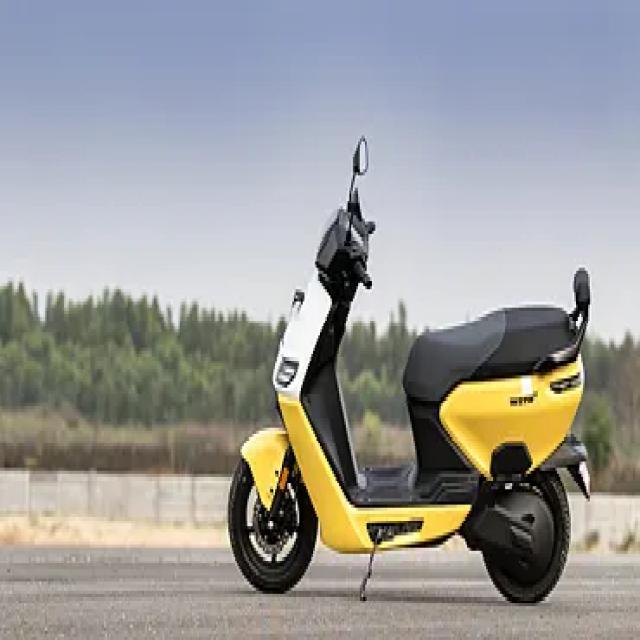objects: (201, 88, 640, 640)
